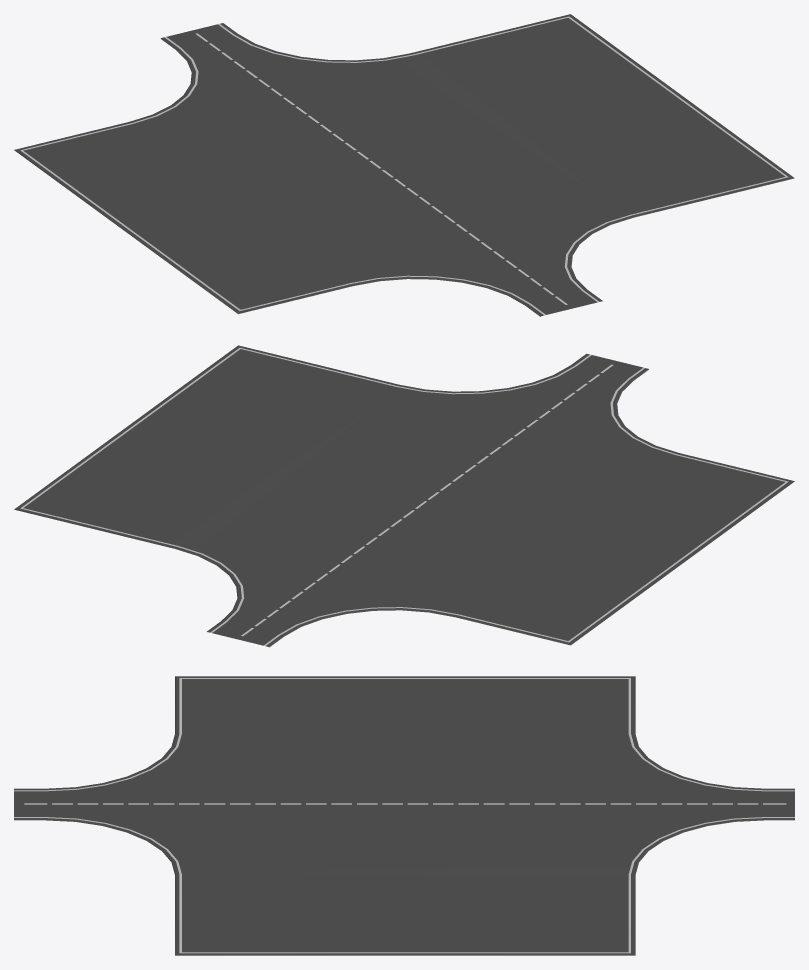
Rendered from StationRoad.FBX.
3 renders of one model, top to bottom at view 1: azimuth 30°, elevation 25°; view 2: azimuth 150°, elevation 25°; view 3: azimuth 270°, elevation 25°, orthographic. The views are drawn at different scales.
Parts seen in each view (by area): view 1: StationRoad; view 2: StationRoad; view 3: StationRoad.
Boxes of the visible parts, left/top/right/bottom form: StationRoad: left=14, top=14, right=794, bottom=316; StationRoad: left=14, top=345, right=794, bottom=647; StationRoad: left=14, top=676, right=794, bottom=955.
Size of the model in its own units: 5864 by 6.29 by 6933.
Materials: 1 (1 with a texture image).
